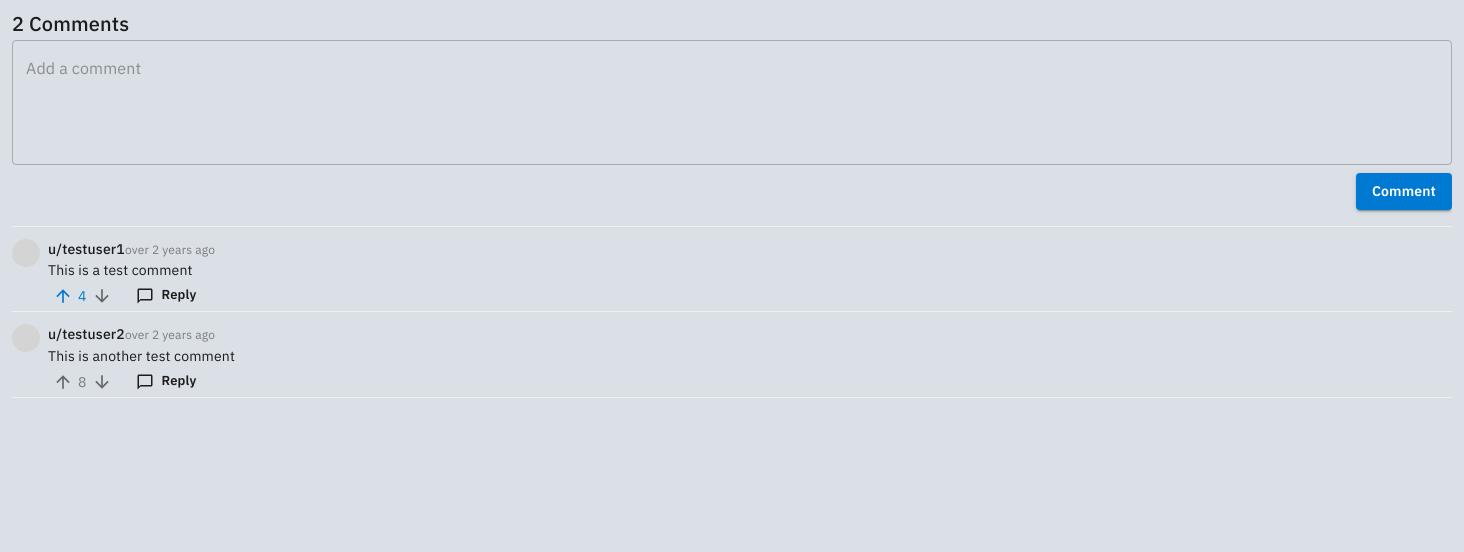
Test case: CommentSection Component › toggles comment reply form
# Find and click the reply button for the first comment
Click the button "Reply" below "This is a test comment" at (167, 296), box [133,280,201,311]
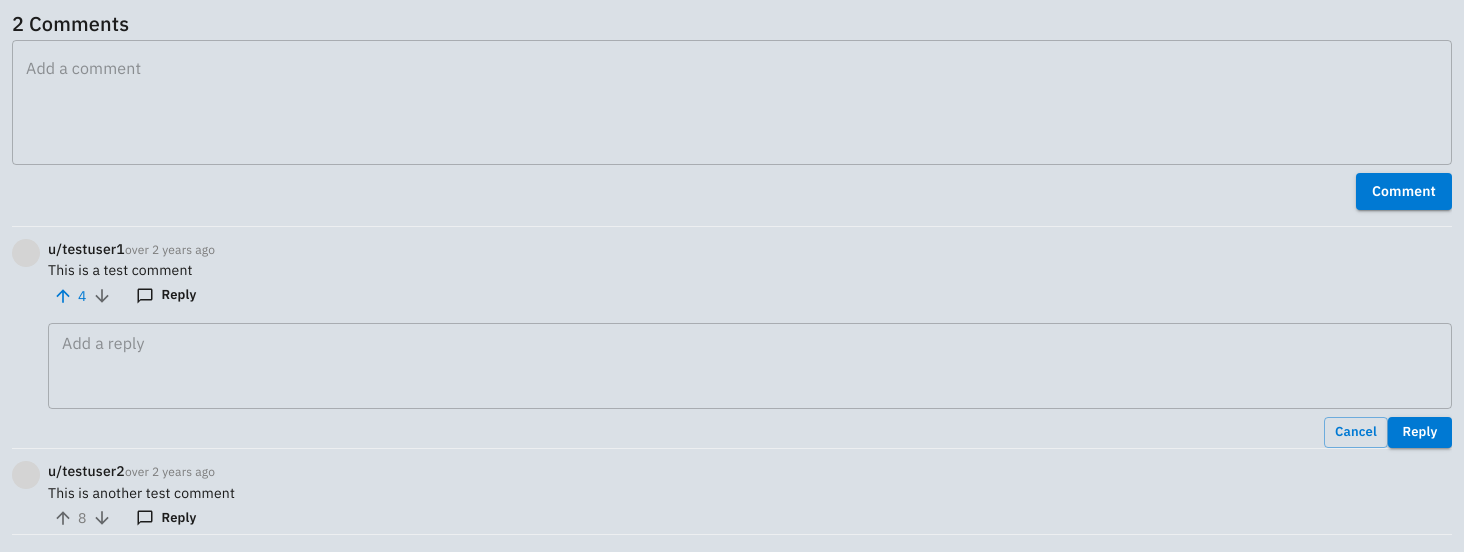
Result: the text box with placeholder "Add a reply" is shown at [62,332,1438,401]
